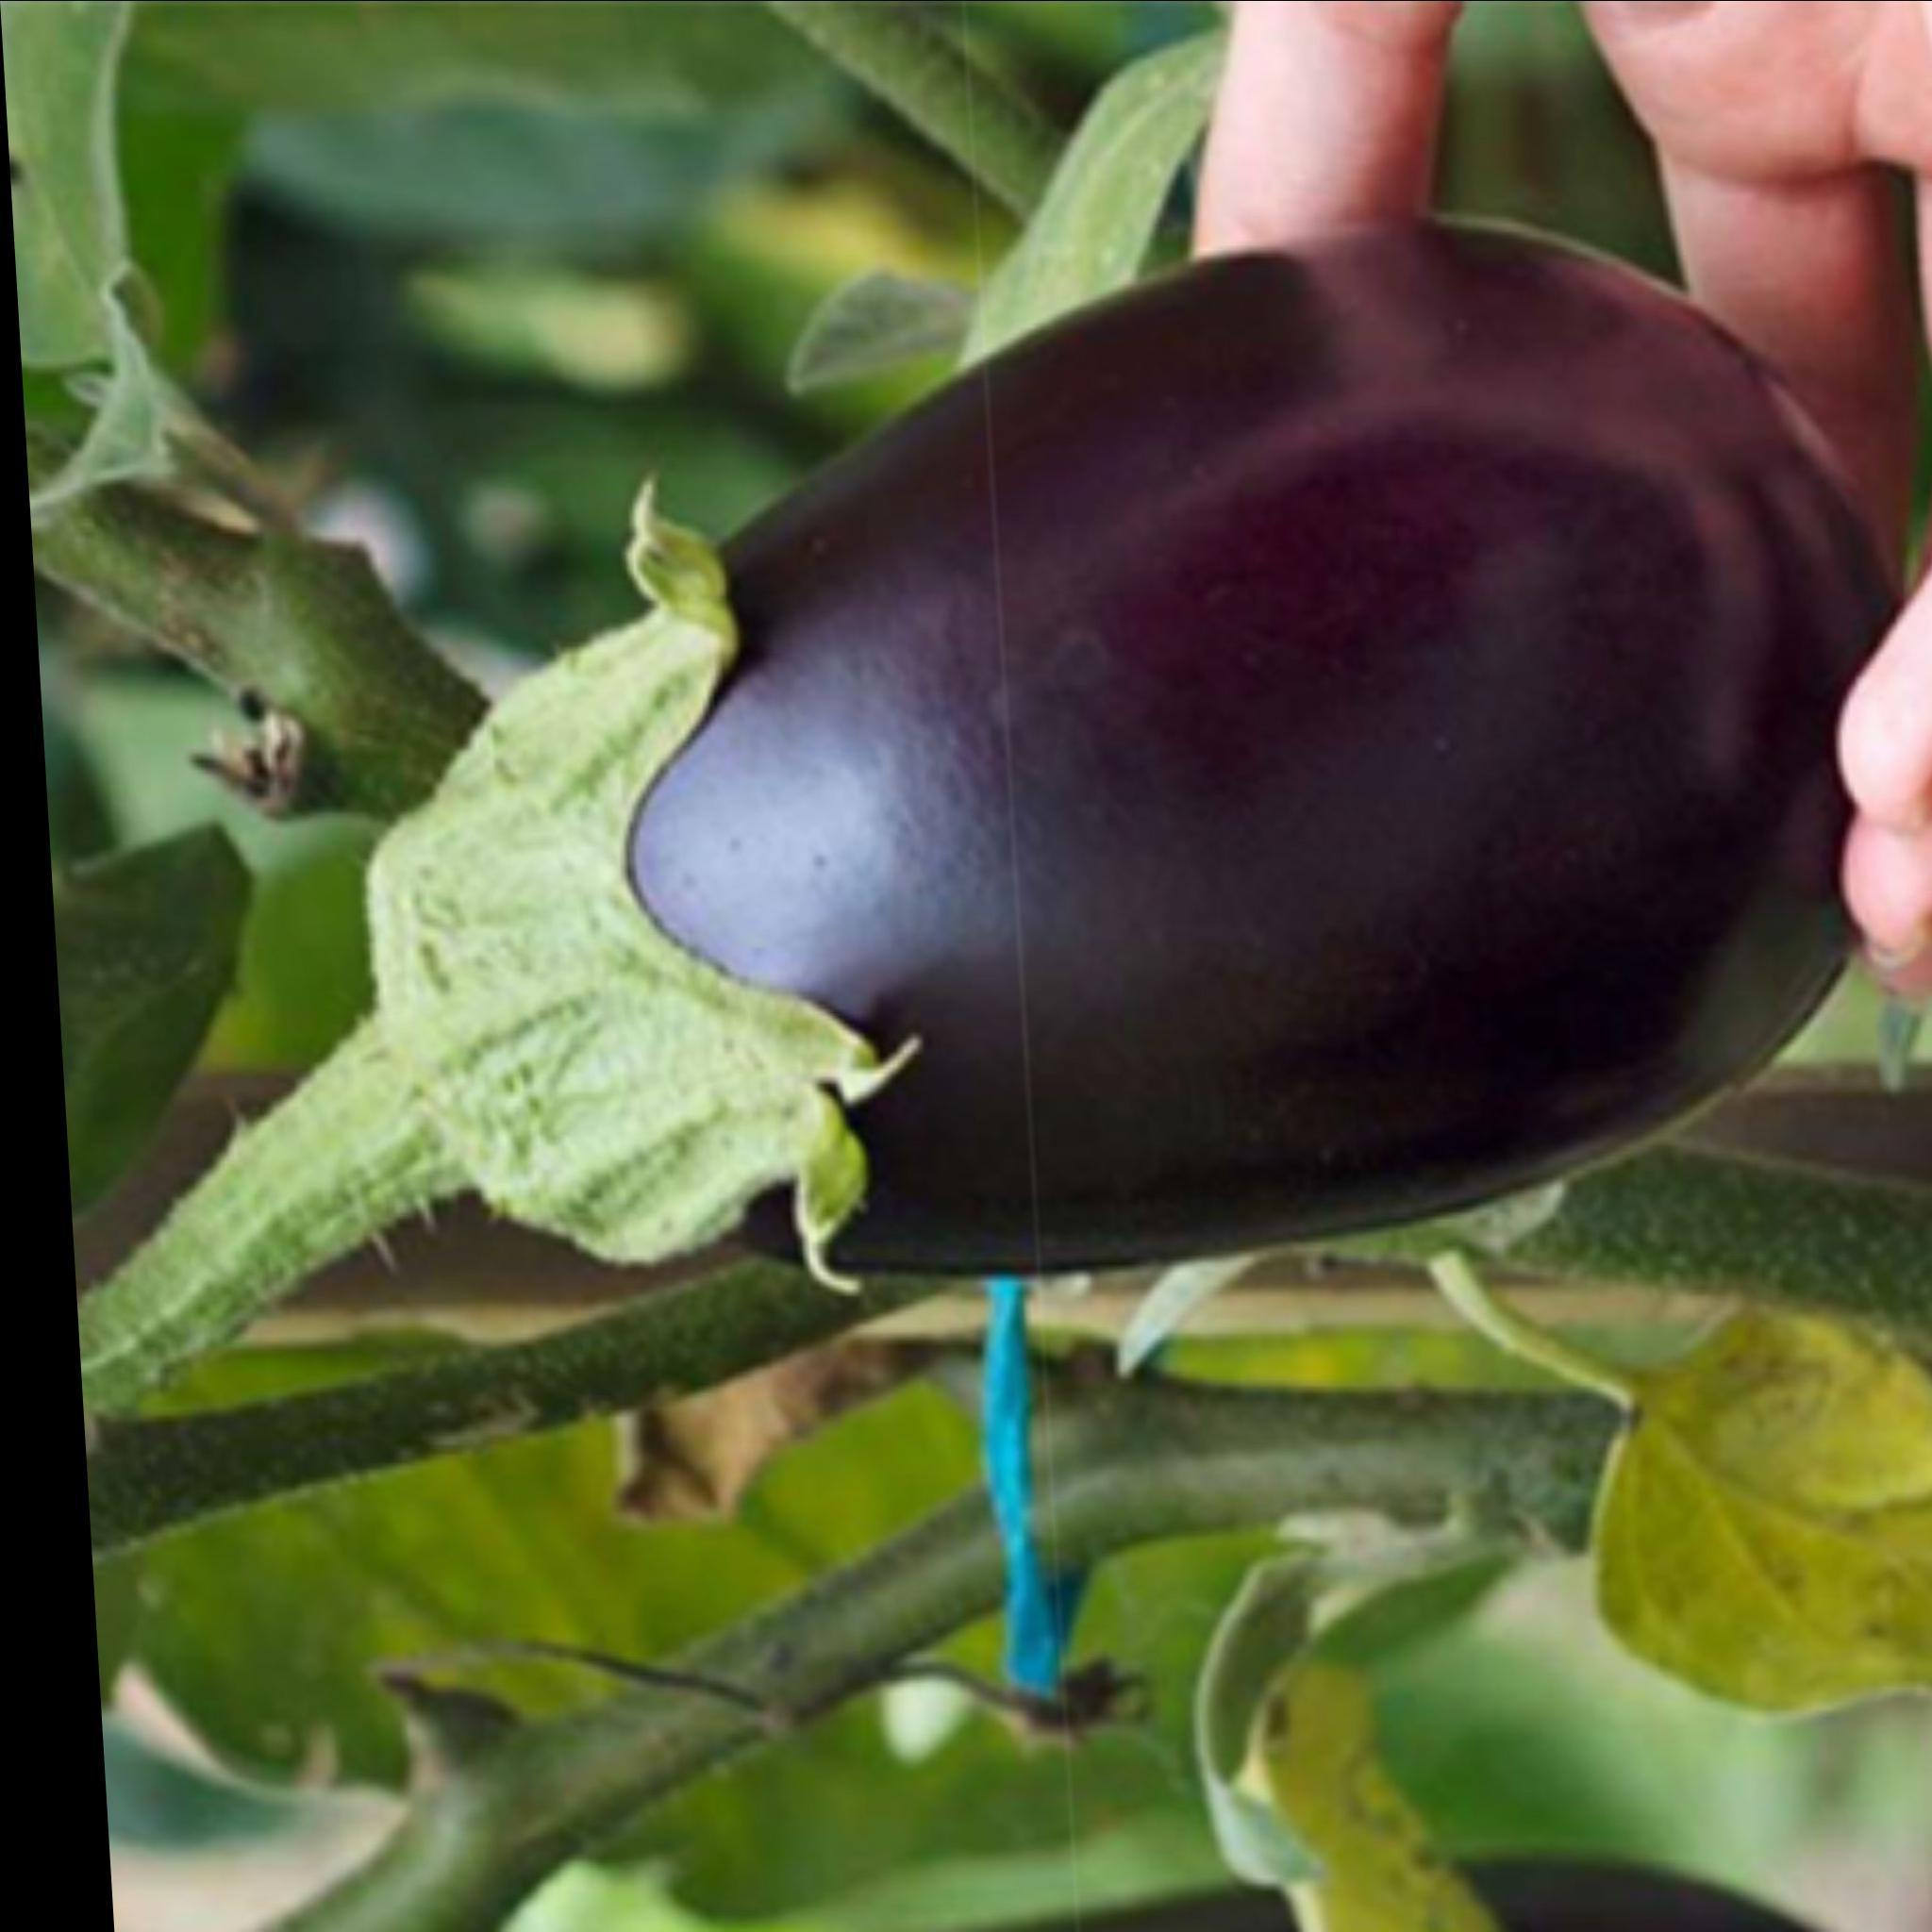eggplant: (81, 188, 1930, 1543)
